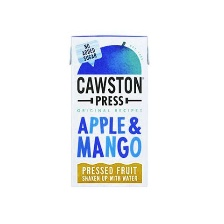carton: (63, 30, 157, 197)
